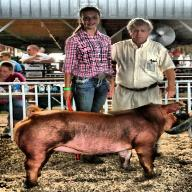boar: (14, 102, 186, 188)
